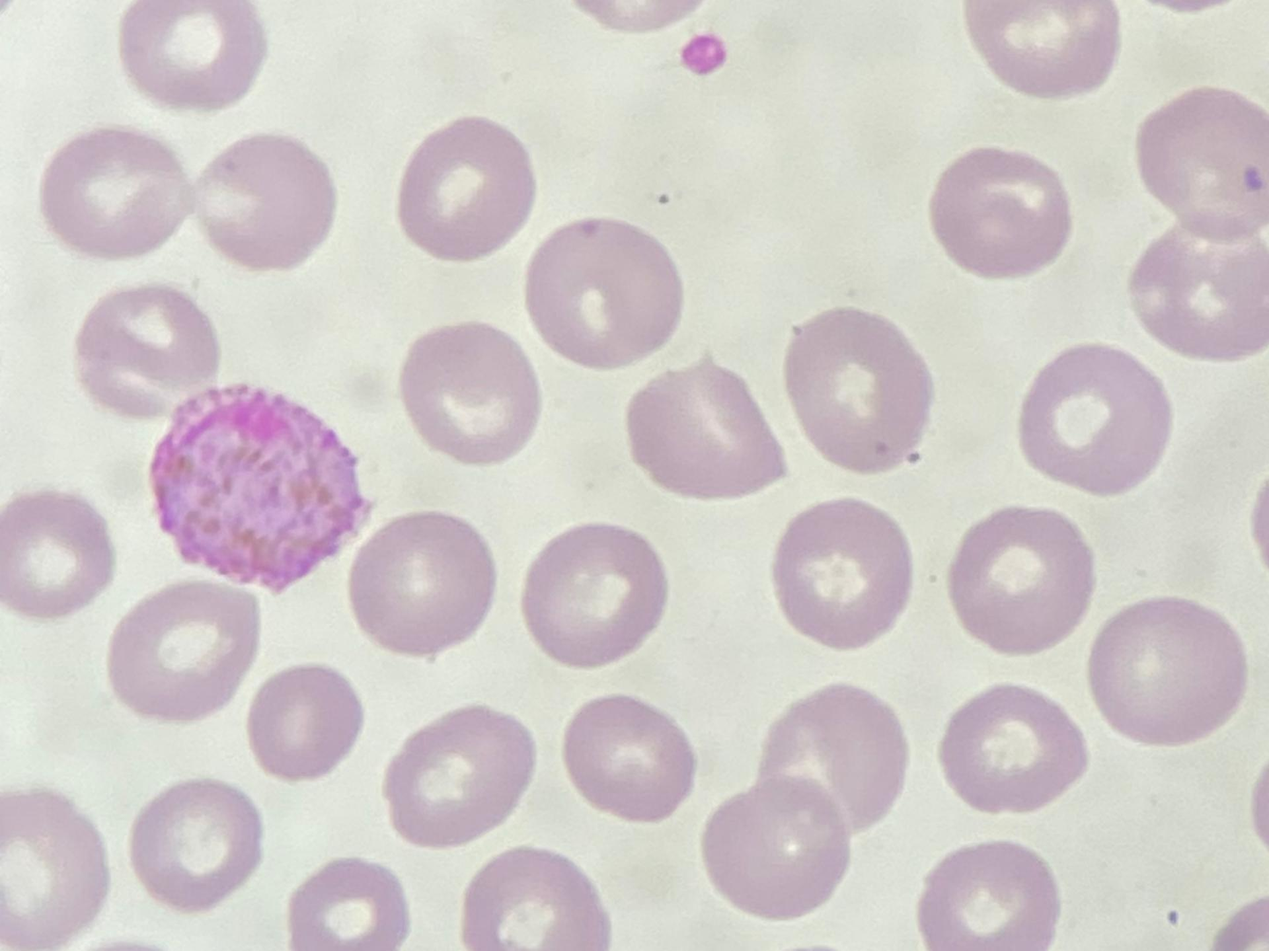Infected: (148, 388, 376, 596)
Uninfected: (785, 309, 935, 472), (1018, 345, 1168, 495), (526, 218, 678, 365), (1086, 599, 1242, 742), (625, 361, 783, 502), (760, 687, 907, 837), (701, 779, 853, 919), (383, 706, 532, 848), (952, 507, 1099, 650), (352, 516, 499, 658), (520, 527, 667, 669), (778, 505, 918, 652), (106, 584, 256, 720), (1137, 85, 1269, 238), (398, 323, 541, 463), (40, 125, 188, 258), (397, 116, 535, 257), (199, 132, 338, 268), (75, 286, 217, 418), (941, 686, 1085, 814), (931, 147, 1070, 278), (1130, 229, 1269, 360), (130, 779, 260, 914), (0, 790, 108, 946), (562, 695, 693, 821), (120, 1, 261, 110), (918, 843, 1058, 949), (968, 1, 1118, 98), (461, 849, 601, 950), (0, 492, 112, 617), (247, 665, 361, 780), (287, 858, 406, 950)
